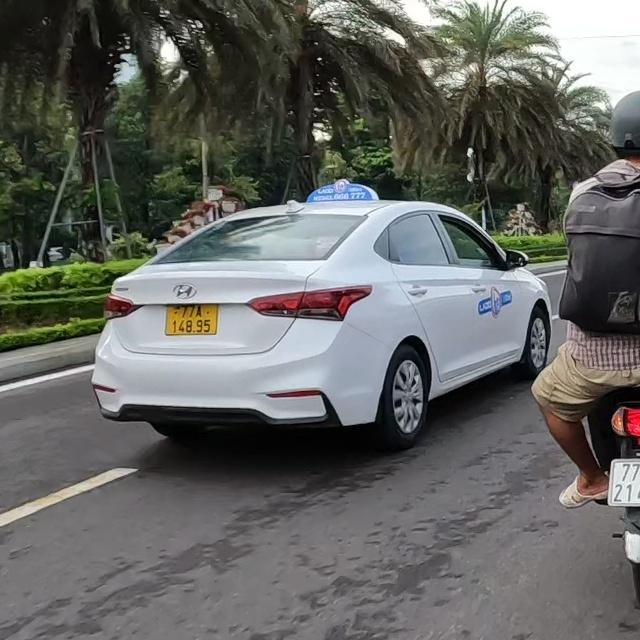license-plate: (164, 304, 217, 336)
